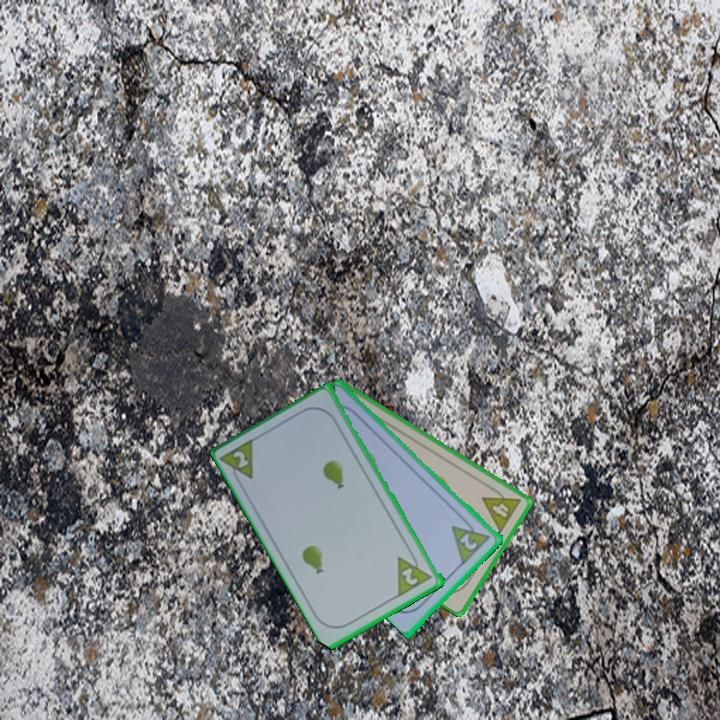2p: (456, 529, 481, 553), (398, 564, 421, 588), (230, 447, 252, 471)
4p: (478, 482, 524, 536)
